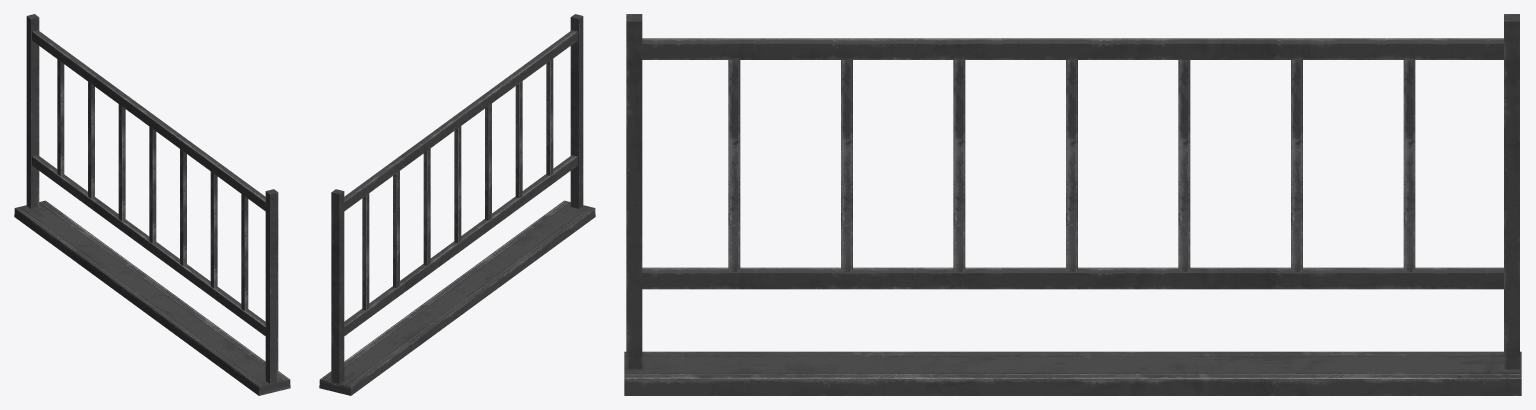
The model's file is CP_Parapet_E_2m_01.fbx.
3 renders of one model, left to right at view 1: azimuth 30°, elevation 25°; view 2: azimuth 150°, elevation 25°; view 3: azimuth 270°, elevation 25°, orthographic. The views are drawn at different scales.
Visible parts, largest first — view 1: CP_Parapet_E_2m_01; view 2: CP_Parapet_E_2m_01; view 3: CP_Parapet_E_2m_01.
Part boxes in pixels (left/top/right/bottom): CP_Parapet_E_2m_01: left=14, top=14, right=290, bottom=395; CP_Parapet_E_2m_01: left=319, top=14, right=595, bottom=395; CP_Parapet_E_2m_01: left=624, top=14, right=1521, bottom=395.
Bounding box in the file's own units: 14.97 × 89.53 × 200.
